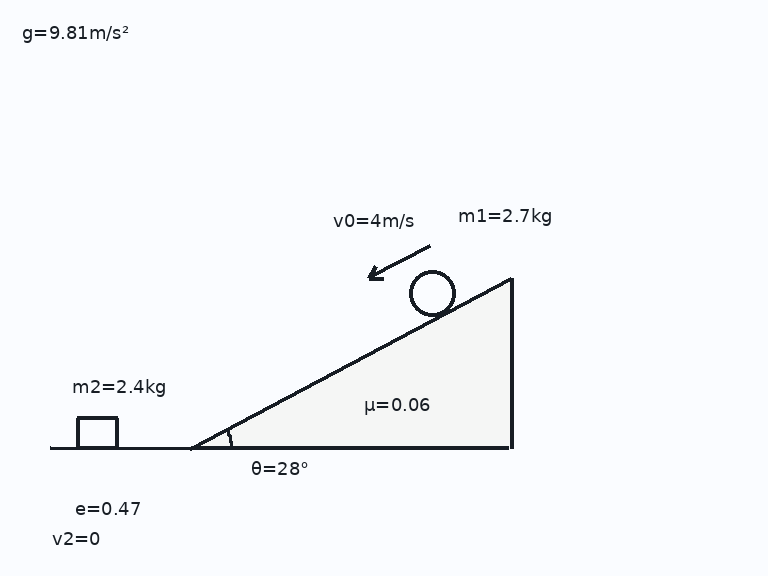ball: (407, 268, 457, 318)
block: (75, 416, 119, 449)
ramp: (189, 276, 512, 449)
